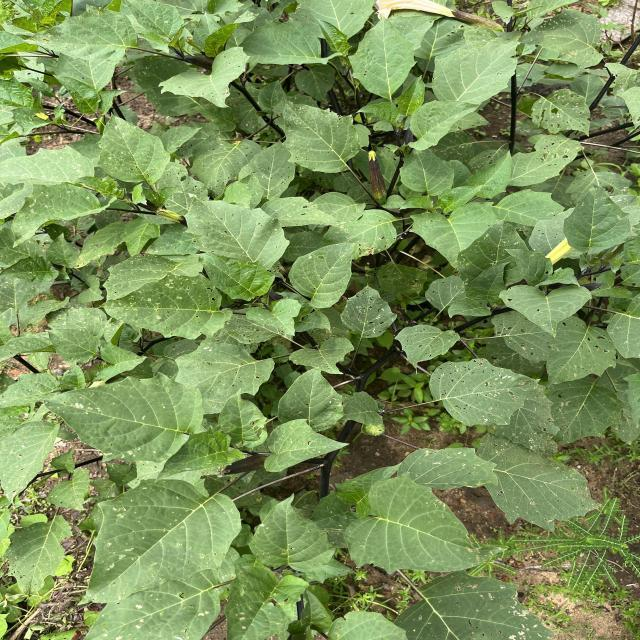Datura metal linn: (74, 477, 244, 609), (342, 470, 510, 578), (35, 370, 206, 464), (97, 270, 234, 341), (20, 3, 142, 67), (10, 180, 120, 250), (246, 492, 338, 574), (280, 96, 362, 174), (347, 15, 419, 101), (157, 45, 251, 108), (430, 40, 521, 104), (96, 111, 172, 187), (154, 425, 246, 483), (286, 240, 362, 310), (263, 418, 351, 473), (185, 250, 276, 302), (408, 98, 483, 152), (287, 336, 355, 374), (44, 328, 102, 364), (397, 194, 443, 212)
